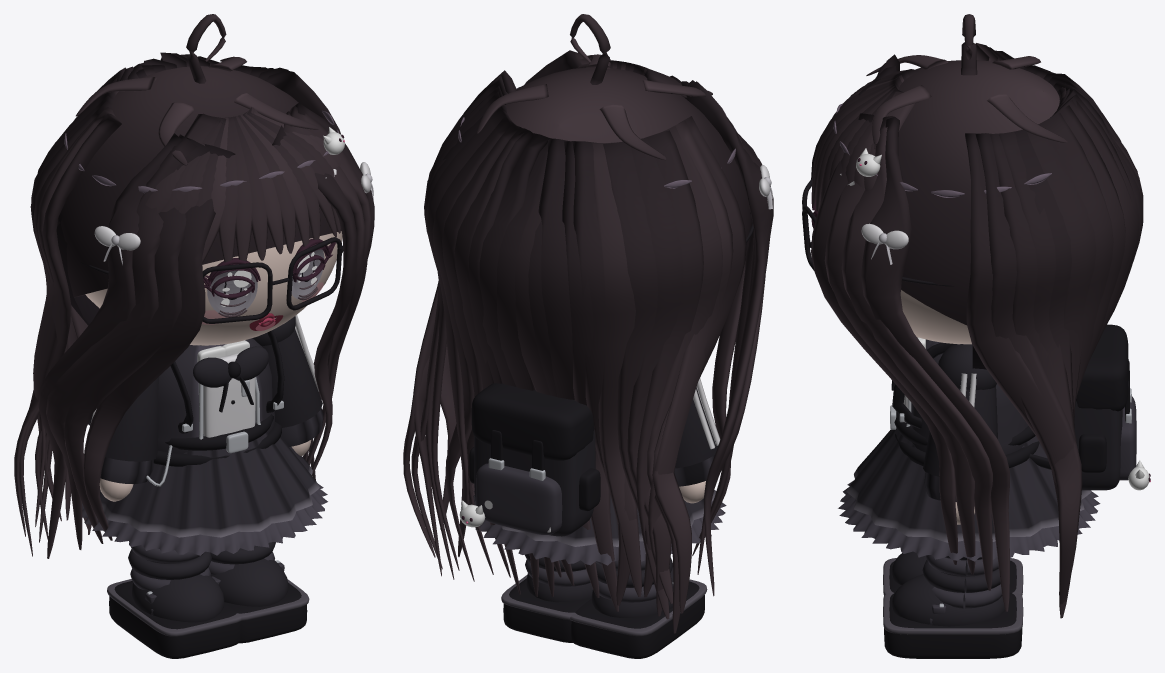
File: kira.glb
The picture shows the model from 3 angles, left to right: view 1: azimuth 30°, elevation 25°; view 2: azimuth 150°, elevation 25°; view 3: azimuth 270°, elevation 25°; orthographic projection. The views are drawn at different scales.
Parts seen in each view (by area): view 1: head, body, legL, legR, armR, armL, eyes_surprised, eyes_normal; view 2: head, body, legL, legR, armL; view 3: head, body, legR, armR, legL.
Part boxes in pixels (<box>): head: <box>14,14,374,558</box>; body: <box>82,330,327,555</box>; legL: <box>107,541,241,658</box>; legR: <box>208,542,309,643</box>; armR: <box>253,315,323,456</box>; armL: <box>85,376,159,501</box>; eyes_surprised: <box>203,238,335,317</box>; eyes_normal: <box>203,242,334,315</box>; head: <box>403,14,773,633</box>; body: <box>459,383,726,565</box>; legL: <box>570,558,707,658</box>; legR: <box>501,553,592,642</box>; armL: <box>674,378,720,503</box>; head: <box>802,14,1143,618</box>; body: <box>838,324,1150,561</box>; legR: <box>883,555,1023,658</box>; armR: <box>923,344,997,524</box>; legL: <box>883,551,1023,595</box>.
Bounding box in the file's own units: 0.8881 × 1.71 × 0.8745.
